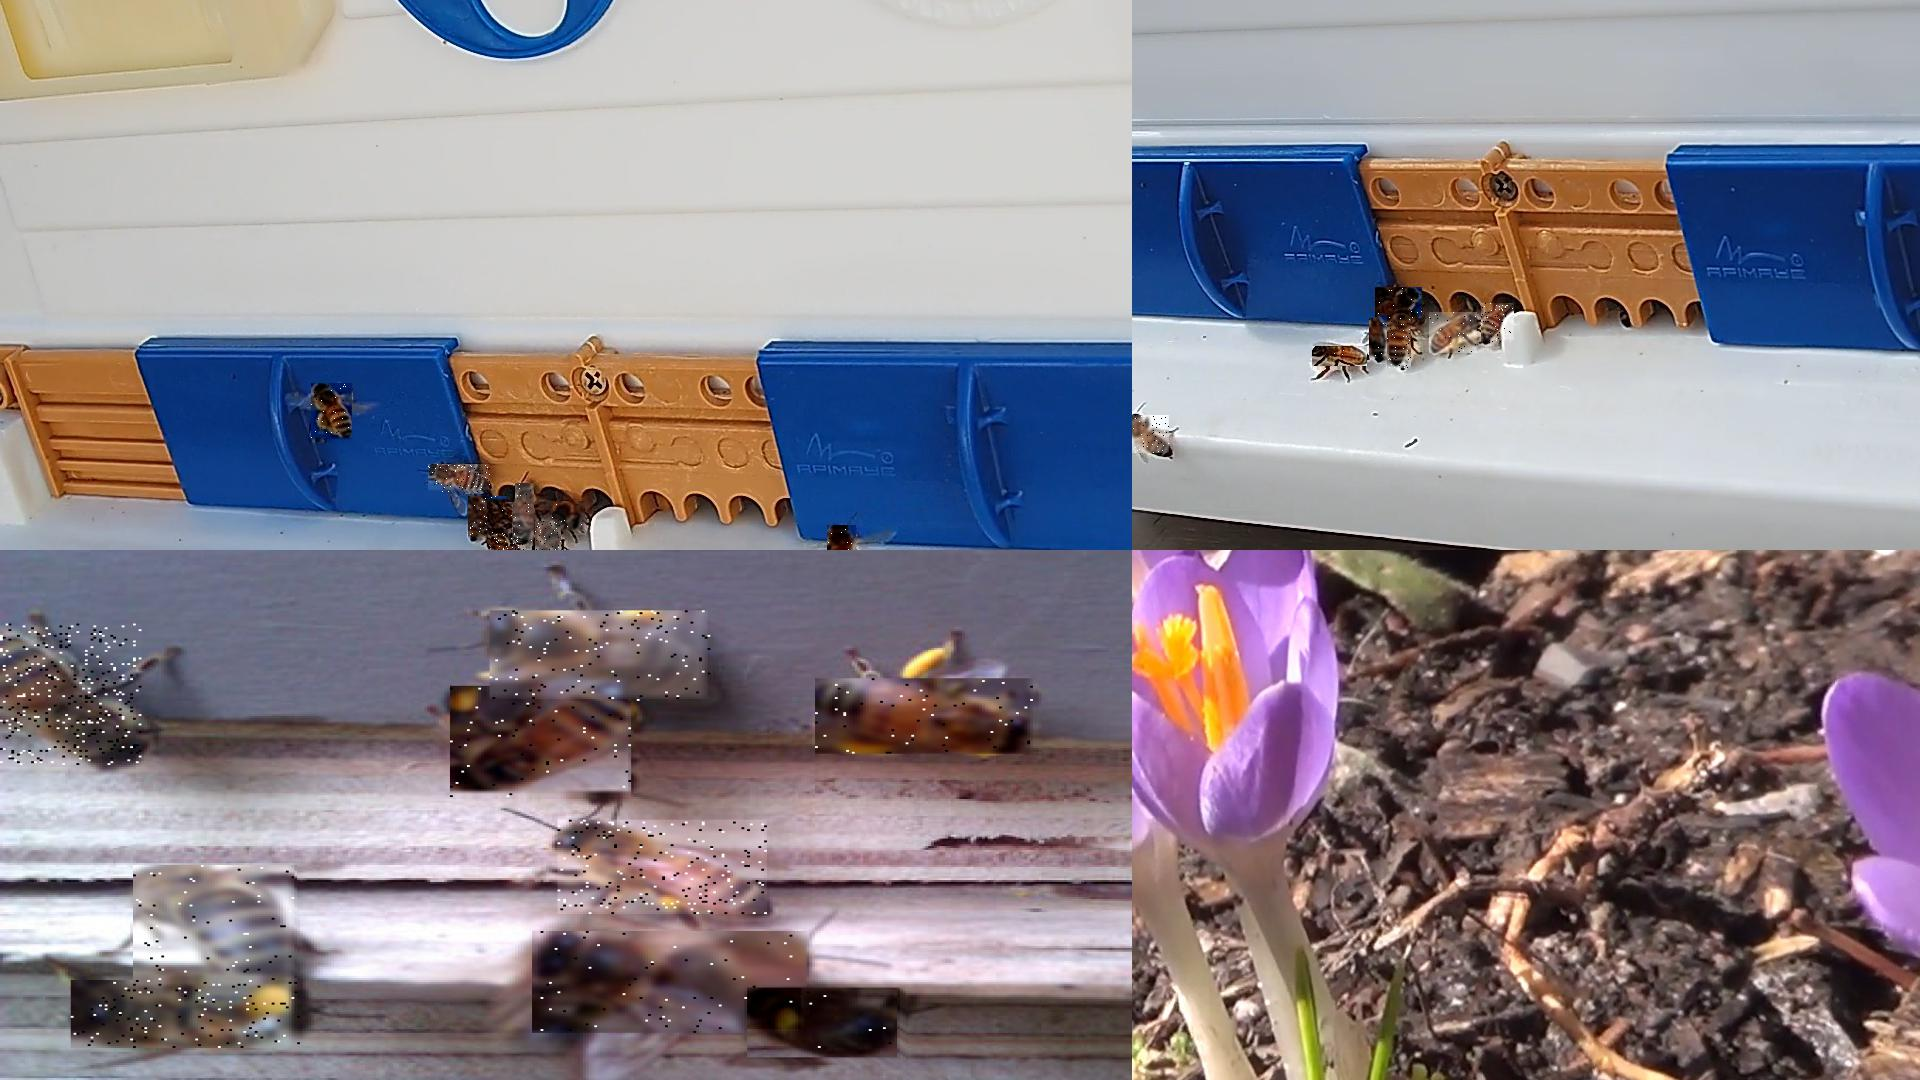bee: (533, 931, 810, 1035), (0, 622, 145, 767), (450, 687, 634, 800), (559, 820, 770, 916), (136, 866, 303, 985), (750, 989, 911, 1067), (429, 465, 492, 493), (468, 497, 508, 541), (1375, 287, 1423, 323), (1131, 415, 1171, 455), (1481, 303, 1515, 344), (488, 502, 518, 547), (1387, 316, 1412, 371), (1312, 347, 1369, 371), (516, 484, 535, 543), (553, 502, 588, 534), (1369, 319, 1389, 361), (535, 521, 563, 549), (827, 525, 858, 549), (491, 531, 527, 549)
pollenbee: (492, 612, 716, 704), (818, 678, 1042, 756), (73, 980, 305, 1050), (311, 384, 353, 443), (1429, 313, 1478, 355)
